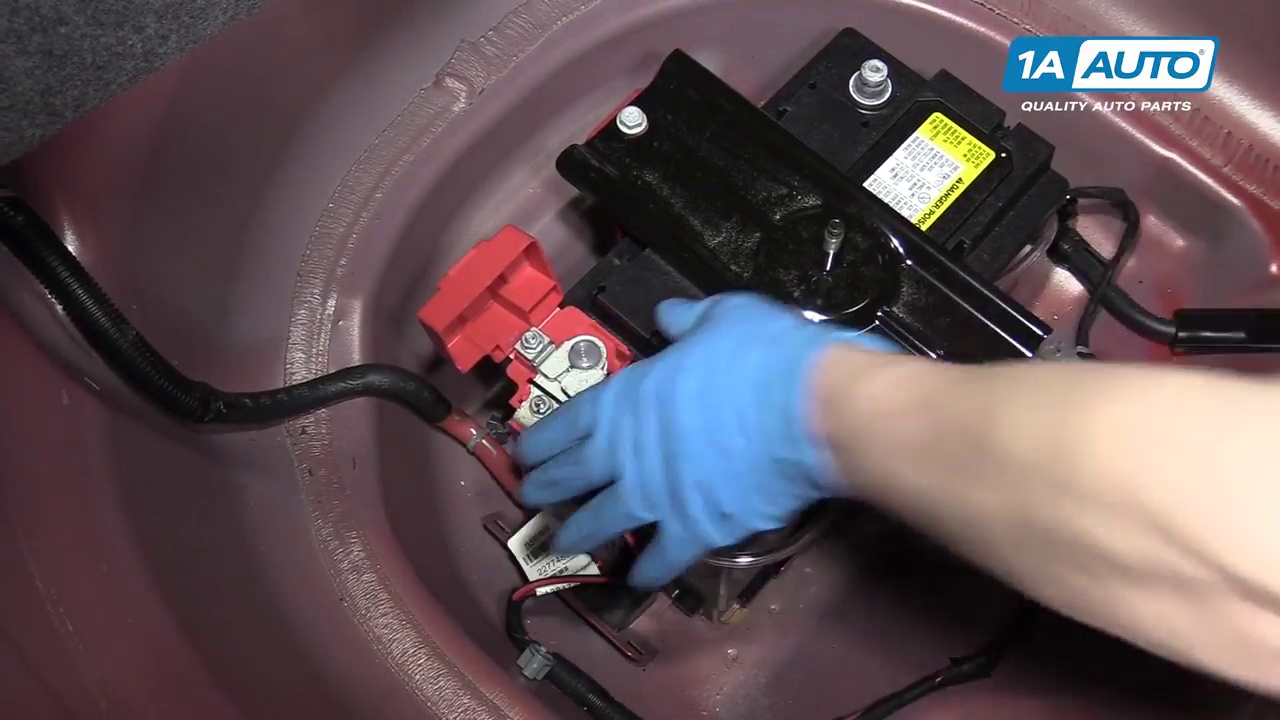battery: (491, 22, 1058, 394)
neg_disconnected: (838, 42, 919, 125)
pos_connected: (434, 243, 616, 419)
pos_touched: (421, 248, 701, 593)
